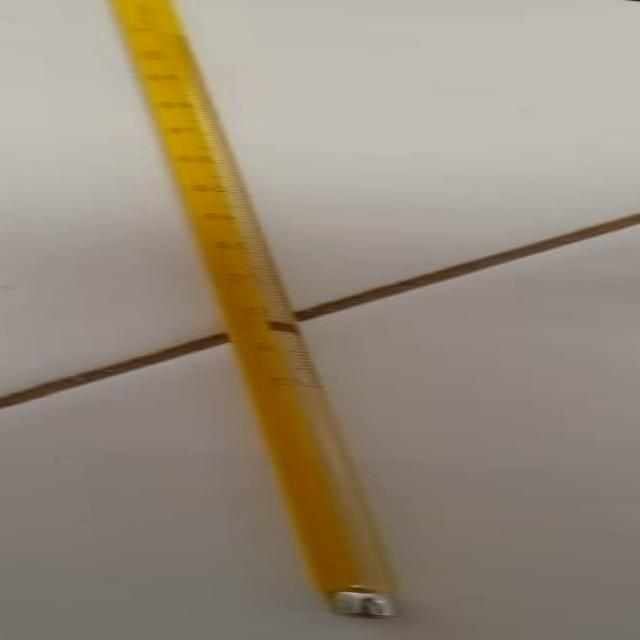Thermometer: (35, 0, 429, 637)
